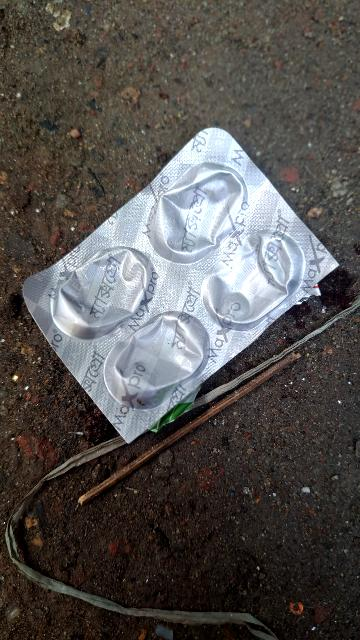medicine: (20, 126, 340, 443)
